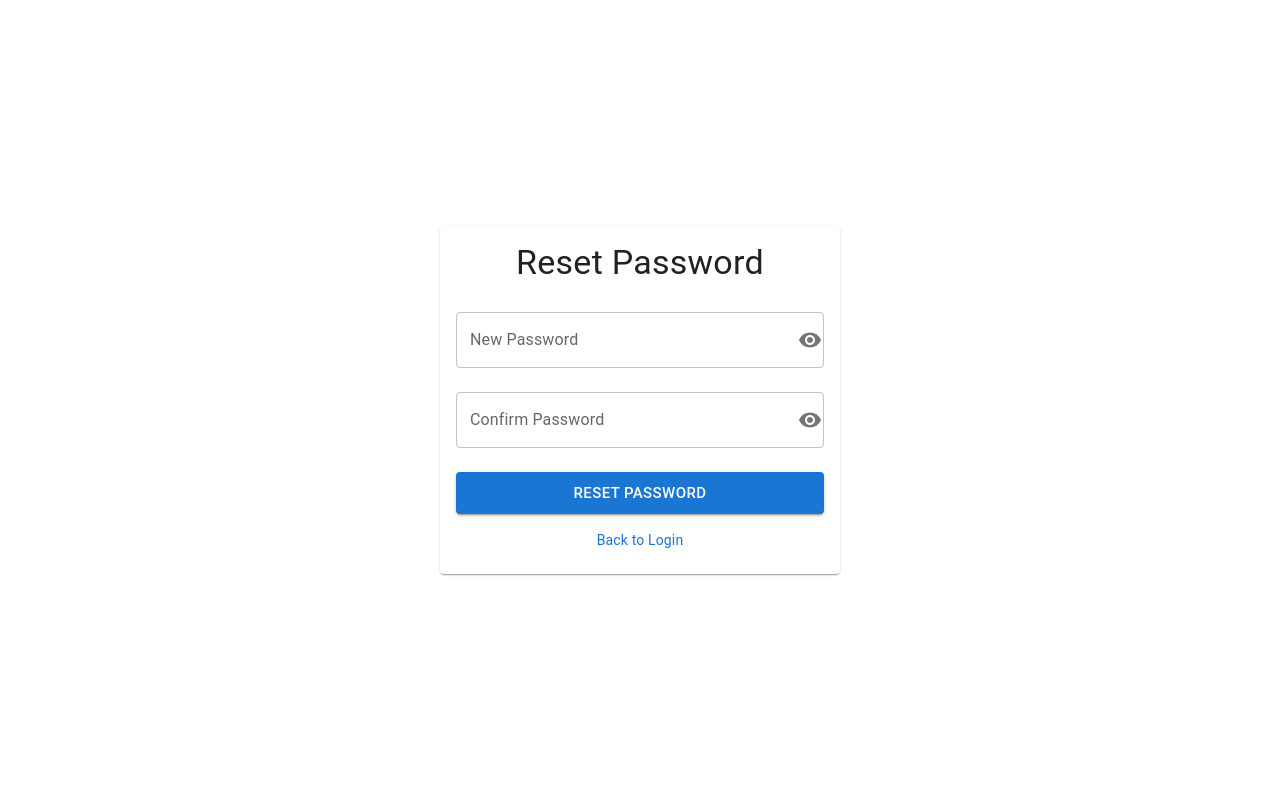
Test: ResetPasswordForm › should show validation error for empty new password
This screenshot has width=1280, height=800.
Submit without new password
Type "password123" into the password field labelled "Confirm Password". click: [623, 420]
box: [456,392,790,448]
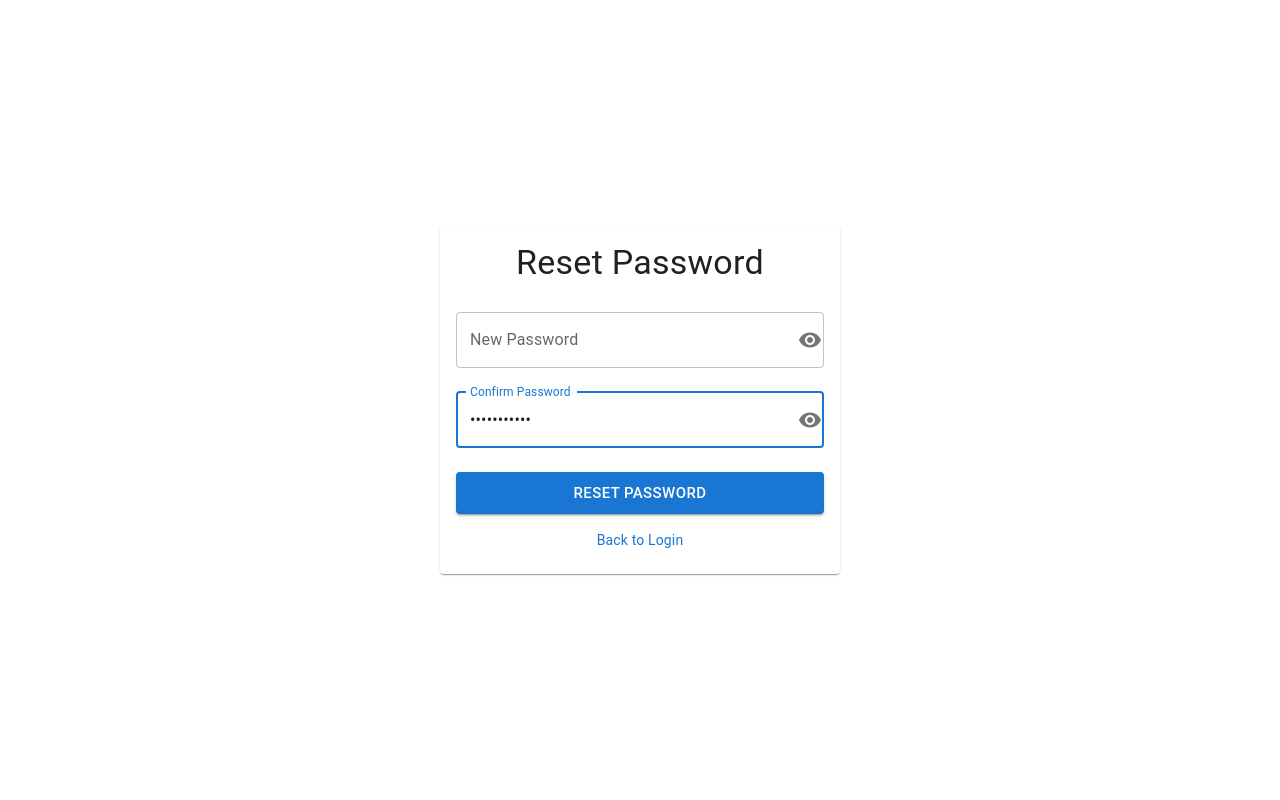
Click the button "Reset Password". click: [640, 493]
box: [456,472,824,514]
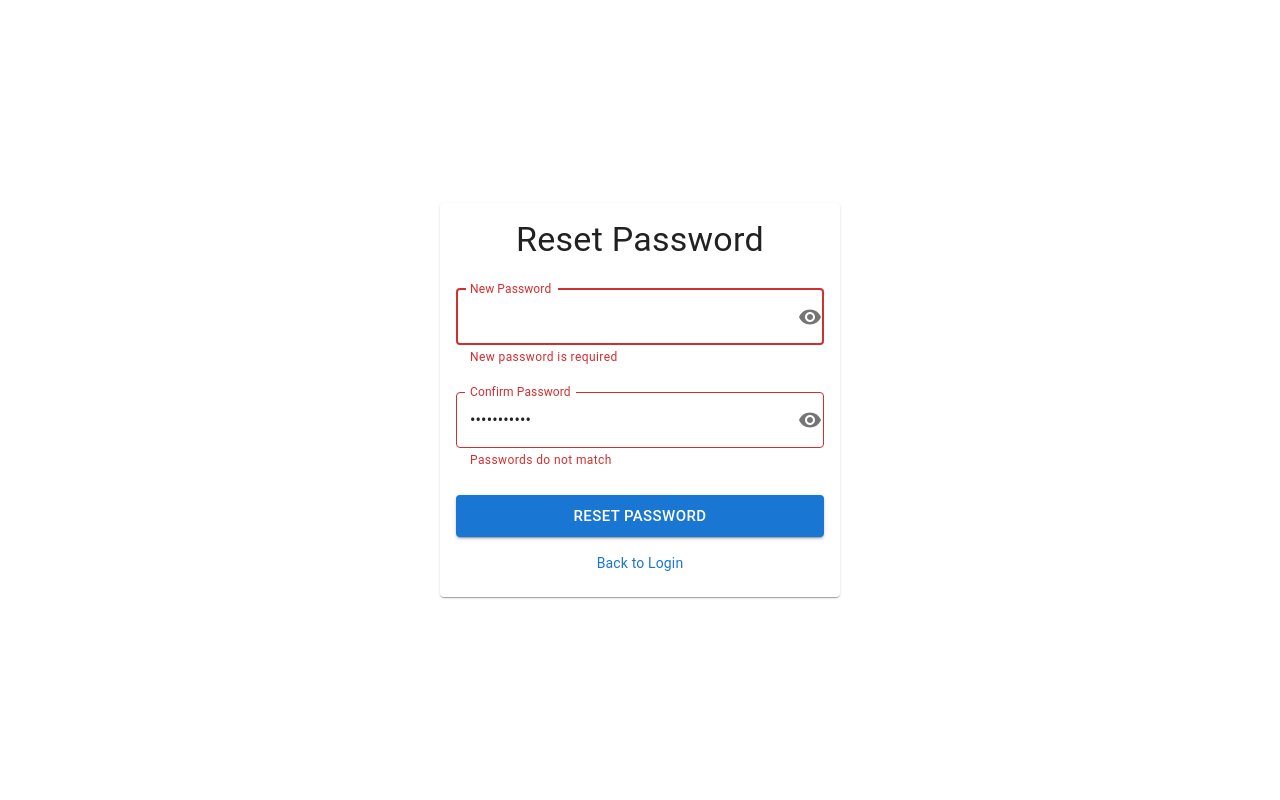
Check: the text "New password is required" is shown, box [470,350,618,364]
